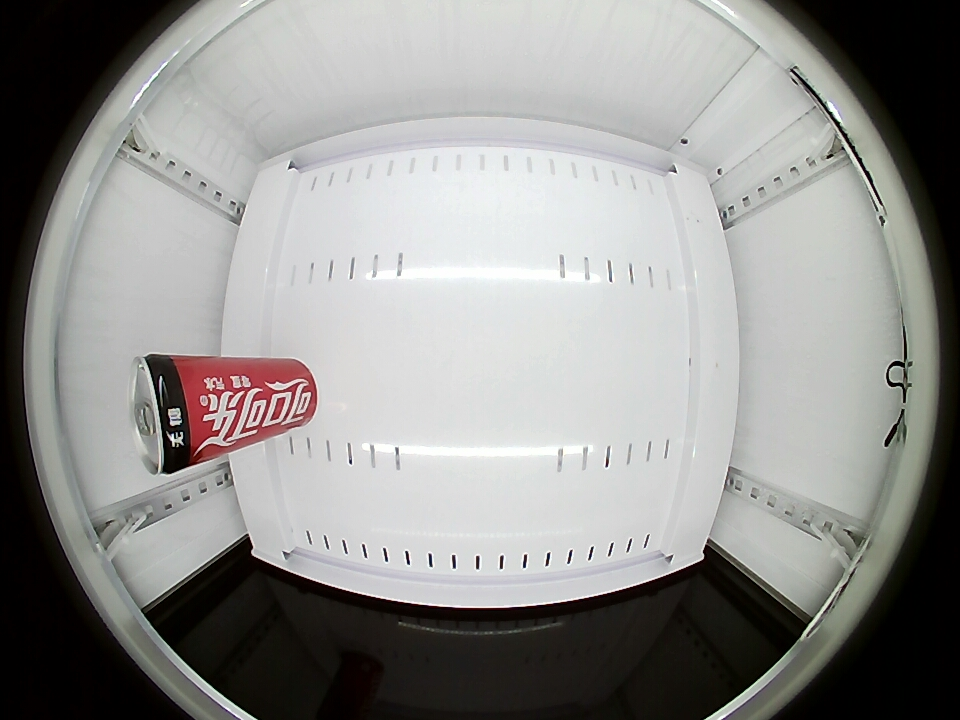lingdukele: (130, 354, 210, 476)
